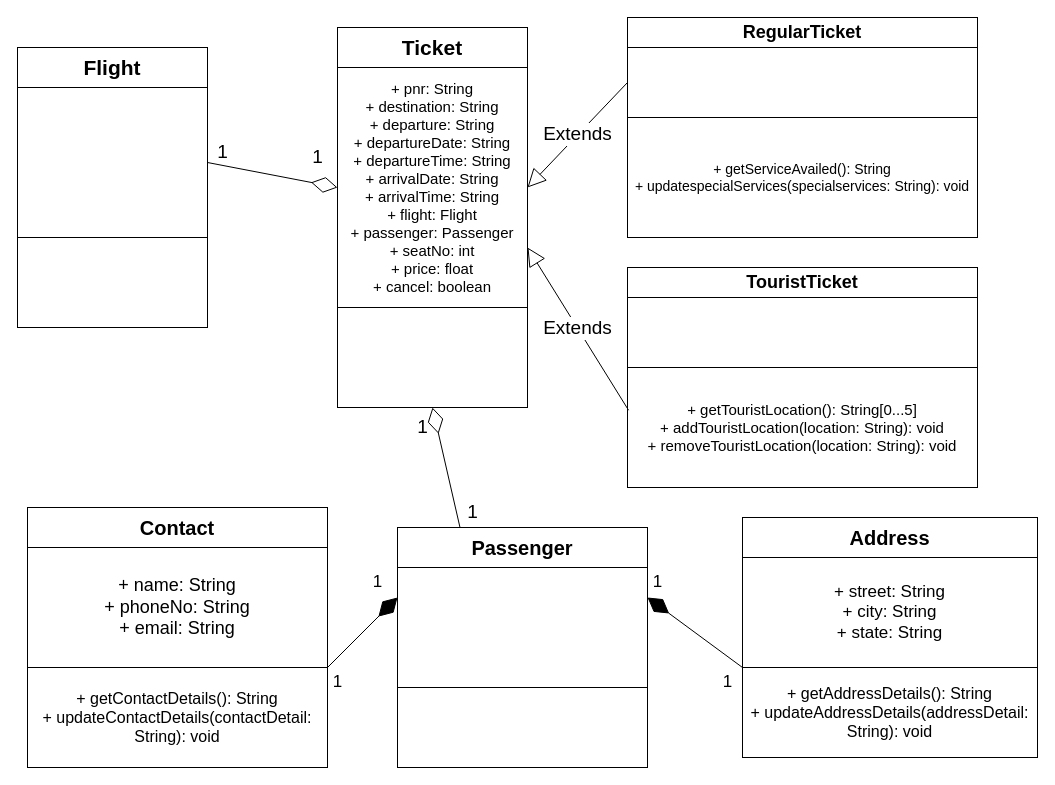
This 1055x785 diagram has some shape labels left out. The centre of each missing label's shape, as x and y in pixels:
+ availableSeats(): int + getFlightDetails(): String + updateseatsBooked(): void: (112,282)
+ contact: Contact + address: Address: (522,627)
+ flightNo: int + airline: String + flightCapacity: int + seatsBooked: int: (112,162)
+ getContactDetails(): Contact + getAddressDetails(): Address: (522,727)
+ hotelAddress: String touristLocation: String[0...5]: (802,332)
+ specialServices: String: (802,82)
+ ticketStatus(): String + getJourneyDuration(): int + cancel(): void: (432,357)
